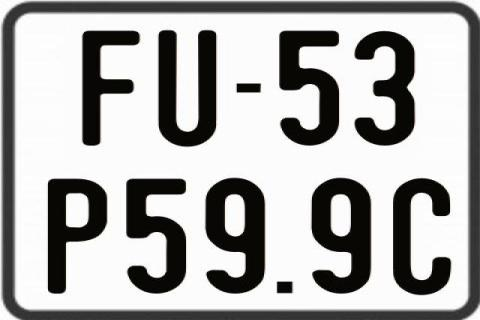0: (279, 30, 345, 146), (308, 175, 372, 293), (124, 177, 188, 293), (202, 178, 266, 294), (353, 31, 418, 145)
C: (390, 176, 452, 295)
F: (81, 28, 142, 144)
P: (46, 178, 110, 298)
U: (156, 30, 217, 146)
